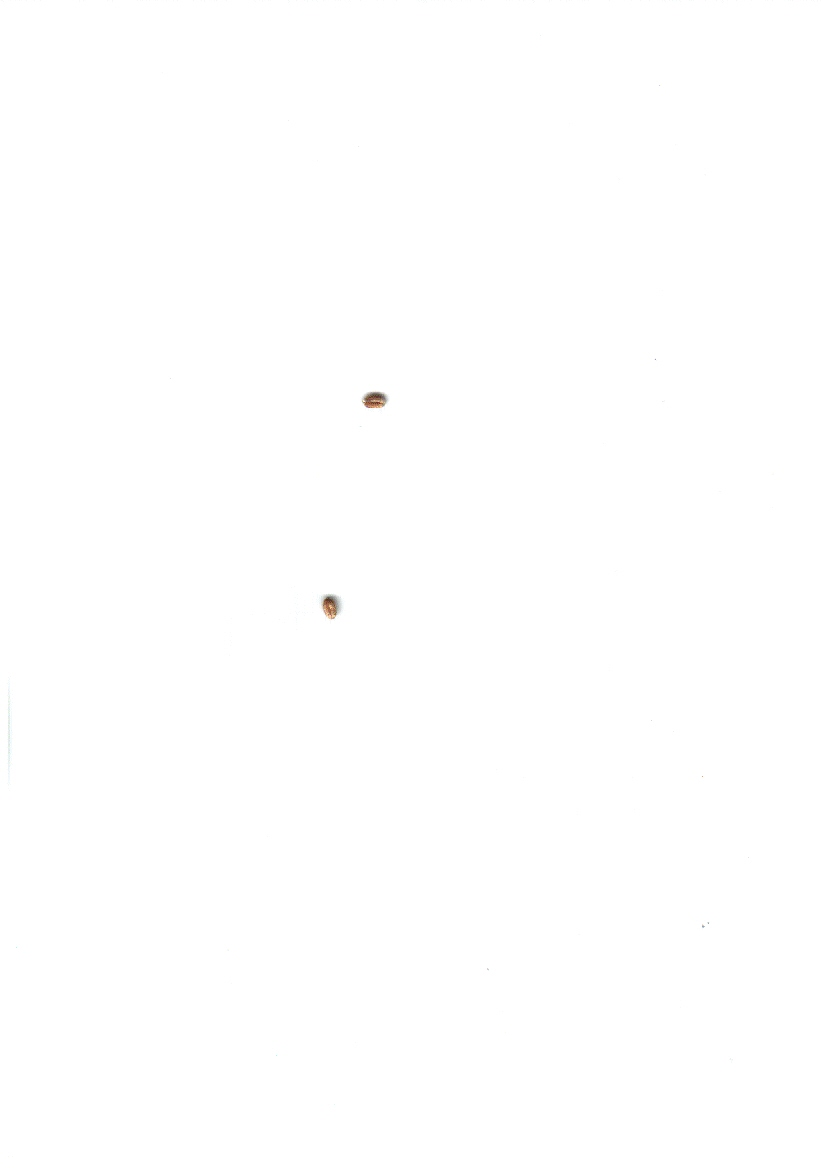grains: (308, 582, 357, 634), (354, 375, 399, 424)
